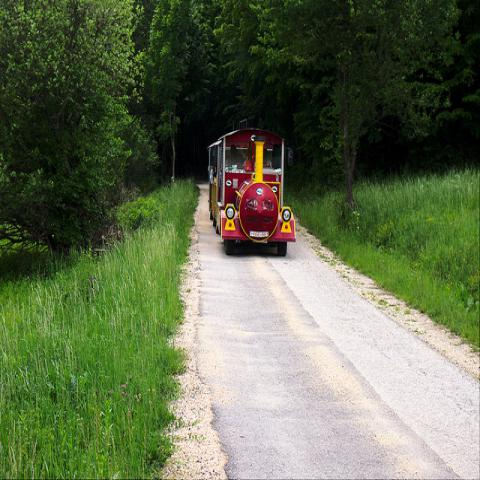bus: (208, 118, 296, 255)
